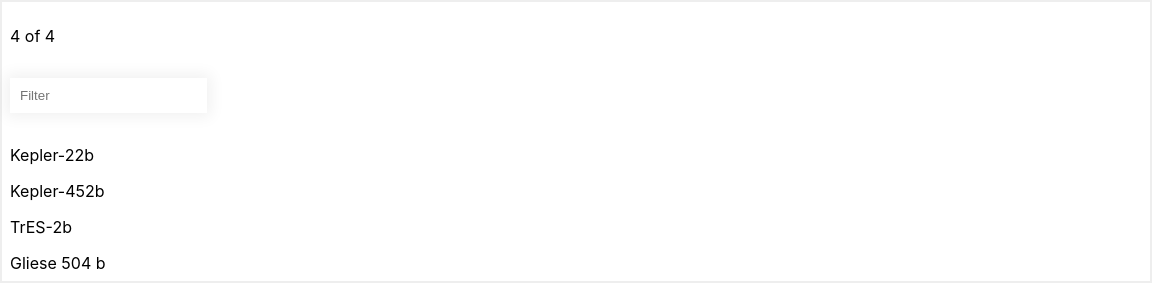
Test: FilterList › interaction - user-events › filtering › should filter by parts of words
The width and height of the screenshot is (1152, 300).
Type "5" into the field with placeholder "Filter" at (108, 96), box [10,78,207,113]
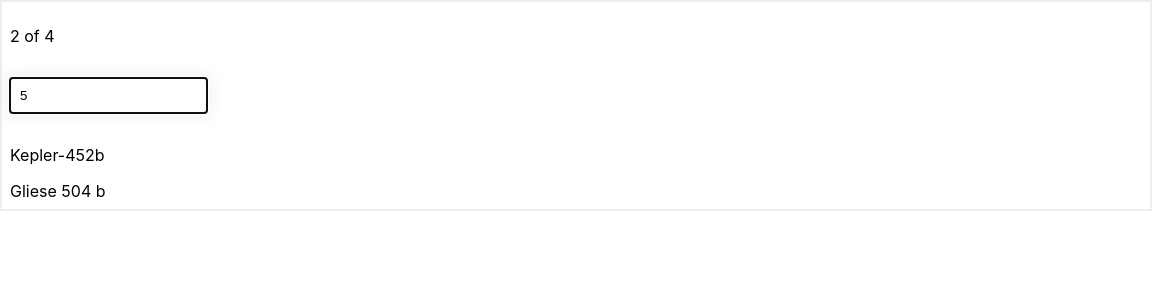
Check: the list item "Kepler-452b" is shown, box [10,145,105,165]
Check: the number of list items is 2, box [10,145,105,165]; [10,181,106,201]
